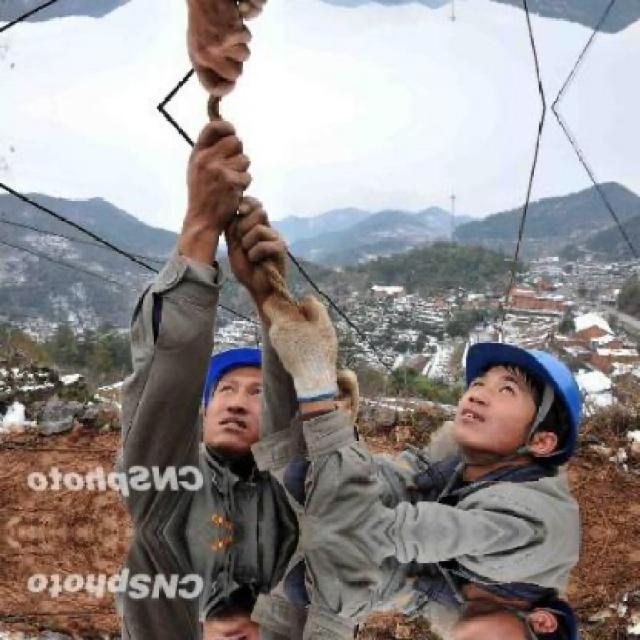helmet: (443, 329, 582, 466), (202, 328, 288, 454), (442, 596, 582, 638), (200, 608, 288, 638)
